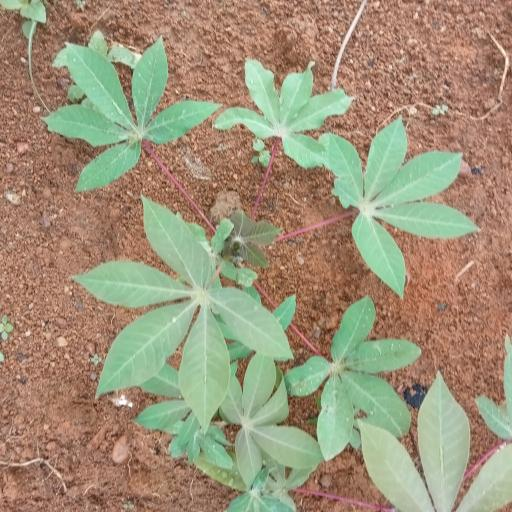Cassava_Mosaic: (90, 196, 284, 400), (330, 133, 472, 289), (296, 294, 408, 452), (232, 61, 342, 165)
